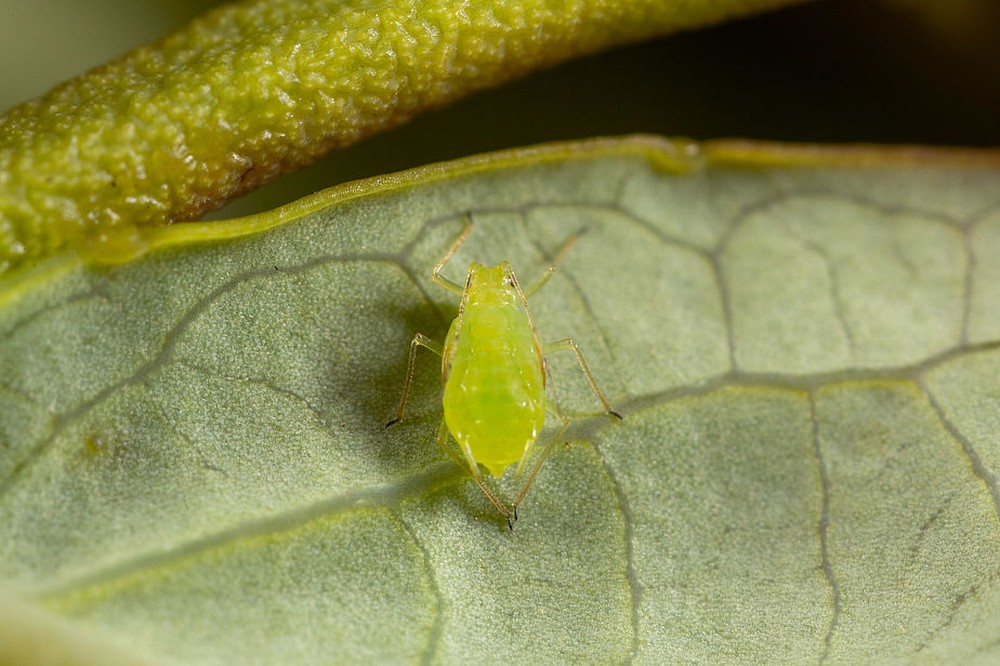Pulgon: (389, 206, 633, 534)
